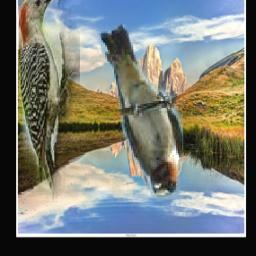Swallow: (95, 25, 183, 201)
Woodpecker: (19, 0, 80, 204)
